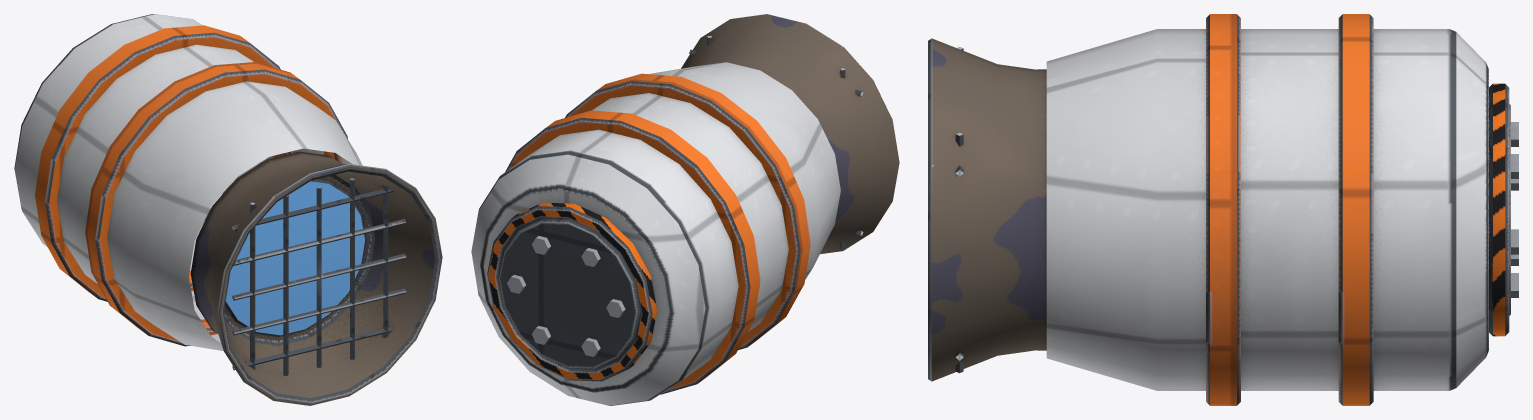
Rendered from motor_ion_t2.fbx.
The picture shows the model from 3 angles, left to right: view 1: azimuth 30°, elevation 25°; view 2: azimuth 150°, elevation 25°; view 3: azimuth 270°, elevation 25°; orthographic projection. The views are drawn at different scales.
Parts seen in each view (by area): view 1: motor_ion_t2, motor_ion_t2_neon; view 2: motor_ion_t2; view 3: motor_ion_t2.
Part boxes in pixels (<box>): motor_ion_t2: <box>14,14,442,405</box>; motor_ion_t2_neon: <box>225,181,364,335</box>; motor_ion_t2: <box>471,14,899,405</box>; motor_ion_t2: <box>928,14,1518,405</box>.
Bounding box in the file's own units: 2.5 × 2.5 × 3.74.
